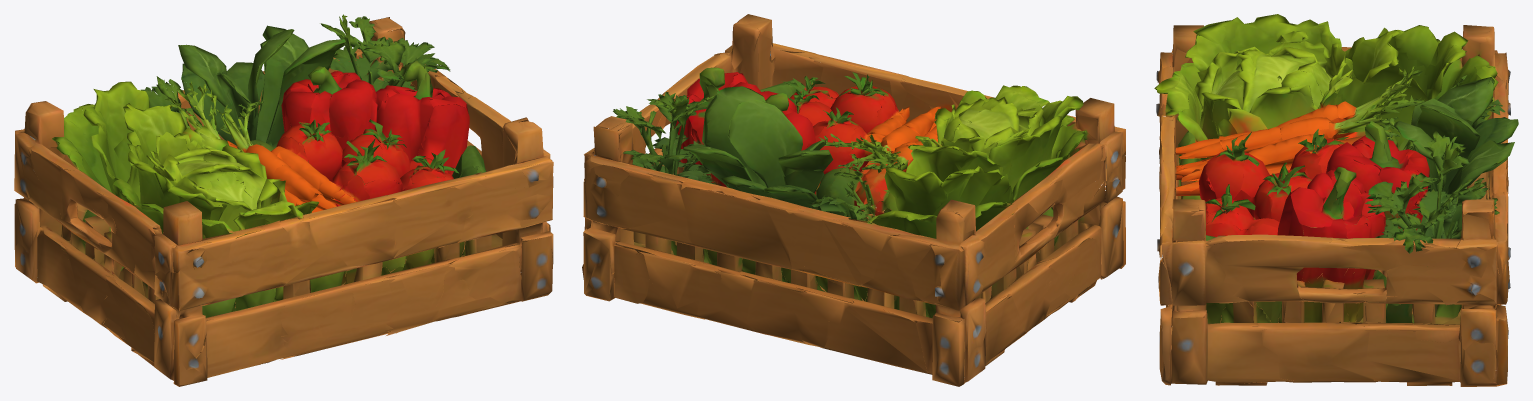
Rendered from GameVegetableCrate.fbx.
The picture shows the model from 3 angles, left to right: view 1: azimuth 30°, elevation 25°; view 2: azimuth 150°, elevation 25°; view 3: azimuth 270°, elevation 25°; orthographic projection. The views are drawn at different scales.
Parts seen in each view (by area): view 1: GameVegetableCrate; view 2: GameVegetableCrate; view 3: GameVegetableCrate.
Part boxes in pixels (x1,y1,x2,y2): GameVegetableCrate: (14,14,553,386); GameVegetableCrate: (582,14,1125,386); GameVegetableCrate: (1154,14,1518,386).
Bounding box in the file's own units: 69.75 × 33.95 × 52.98.
